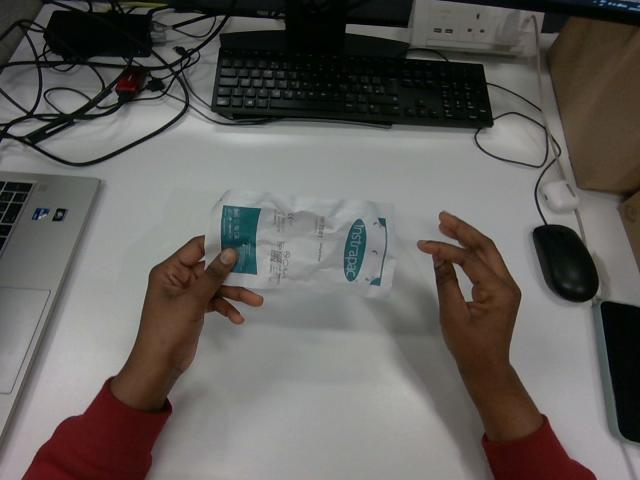gallipot: (205, 190, 395, 296)
